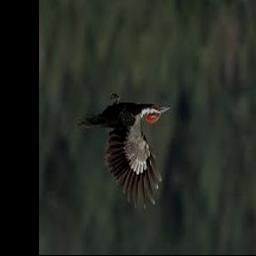Woodpecker: (77, 93, 171, 209)
